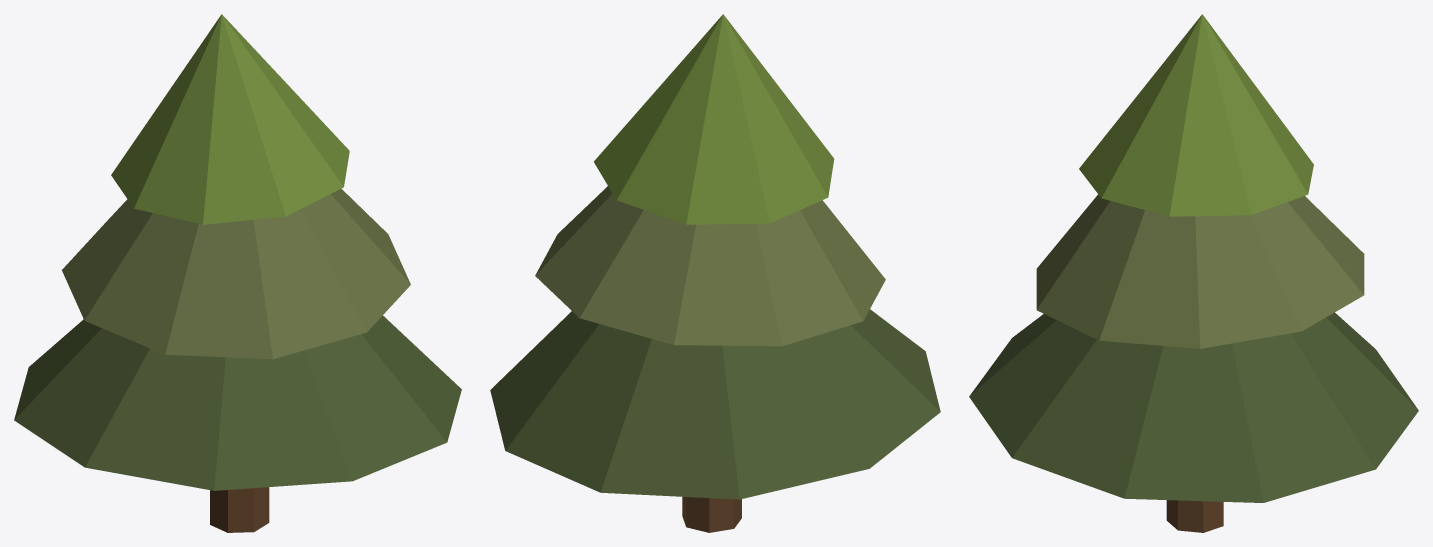
The model's file is pine.fbx.
3 views of the same model, side by side, from view 1: azimuth 30°, elevation 25°; view 2: azimuth 150°, elevation 25°; view 3: azimuth 270°, elevation 25° (orthographic). The views are drawn at different scales.
Parts seen in each view (by area): view 1: Prop; view 2: Prop; view 3: Prop.
Part boxes in pixels (left/top/right/bottom): Prop: left=14, top=14, right=461, bottom=532; Prop: left=490, top=14, right=940, bottom=532; Prop: left=969, top=14, right=1418, bottom=532.
Size of the model in its own units: 1.14 by 1.2 by 1.47.
